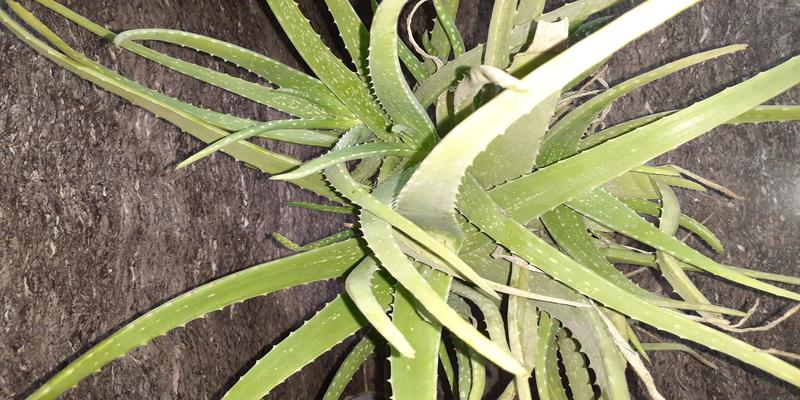Aloevera: (282, 26, 695, 373)
